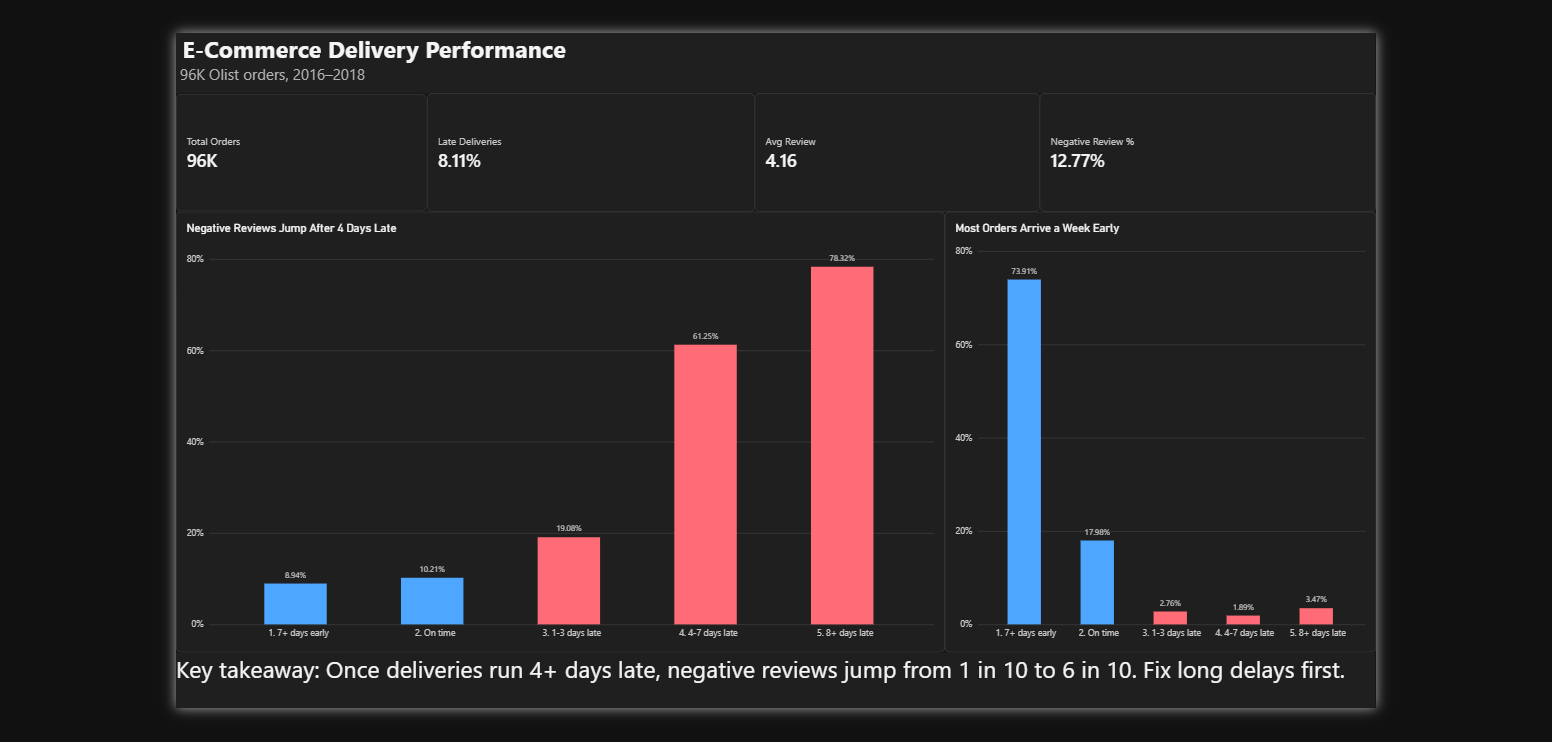

The page's visual inventory and layout, read from the dashboard file:
{"tool":"powerbi","page":{"name":"Page 1","canvas":[1920,1080],"ordinal":0},"visuals":[{"type":"actionButton","box":[0,0,100,40],"z":0},{"type":"clusteredColumnChart","title":"Negative Reviews Jump After 4 Days Late","fields":{"Category":["public delivered_orders.Delivery Bucket"],"Y":["public delivered_orders.Negative Review %"]},"box":[0,286,1230,705],"z":1000},{"type":"cardVisual","fields":{"Data":["public delivered_orders.Total Orders"]},"box":[0,98,401.7,187.9],"z":2000},{"type":"cardVisual","fields":{"Data":["public delivered_orders.Late %"]},"box":[402,96,524,190],"z":3000},{"type":"cardVisual","fields":{"Data":["public delivered_orders.Avg Review"]},"box":[926,96,456,190],"z":4000},{"type":"cardVisual","fields":{"Data":["public delivered_orders.Negative Review %"]},"box":[1382,96,538,190],"z":5000},{"type":"clusteredColumnChart","title":"Most Orders Arrive a Week Early","fields":{"Category":["public delivered_orders.Delivery Bucket"],"Y":["public delivered_orders.Total Orders"]},"box":[1230,286,690,705],"z":6000},{"type":"textbox","box":[0,0,1918,96],"z":6001},{"type":"textbox","box":[0,992,1918,88],"z":6002}]}

Visuals, with their boxes on the page's 1920x1080 design canvas (x1, y1, x2, y2). These are canvas units, not pixel positions in the 1552x742 screenshot, which may show the page scaled, cropped or inside an application window:
actionButton: 0:0:100:40
"Negative Reviews Jump After 4 Days Late" clusteredColumnChart: 0:286:1230:991
cardVisual - public delivered_orders.Total Orders: 0:98:402:286
cardVisual - public delivered_orders.Late %: 402:96:926:286
cardVisual - public delivered_orders.Avg Review: 926:96:1382:286
cardVisual - public delivered_orders.Negative Review %: 1382:96:1920:286
"Most Orders Arrive a Week Early" clusteredColumnChart: 1230:286:1920:991
textbox: 0:0:1918:96
textbox: 0:992:1918:1080
